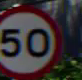Speed limit: (0, 5, 61, 76)
